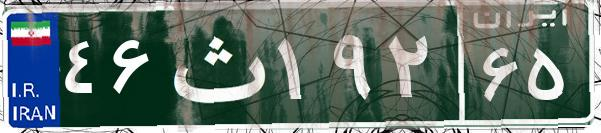1: (273, 28, 330, 110)
2: (385, 28, 445, 110)
4: (57, 26, 110, 107)
5: (525, 38, 570, 115)
6: (475, 38, 525, 113), (110, 28, 158, 105)
9: (330, 28, 385, 110)
ث: (158, 15, 273, 115)
